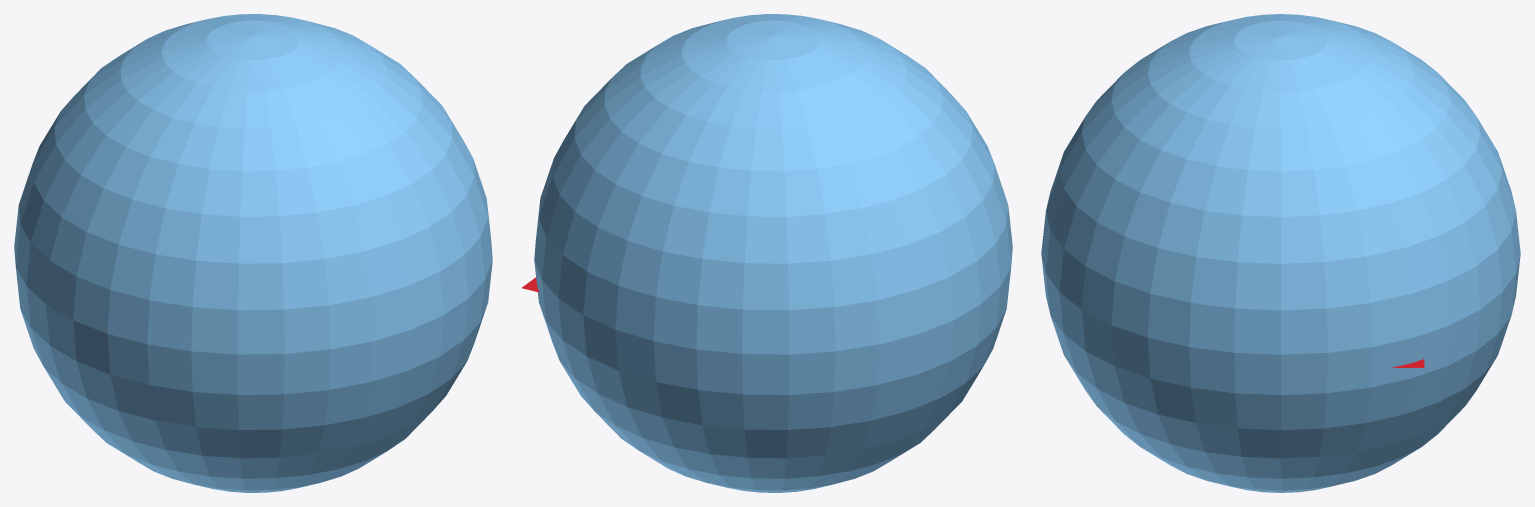
Rendered from test-zone2.glb.
The picture shows the model from 3 angles, left to right: view 1: azimuth 30°, elevation 25°; view 2: azimuth 150°, elevation 25°; view 3: azimuth 270°, elevation 25°; orthographic projection.
Parts seen in each view (by area): view 1: SkyBox; view 2: SkyBox; view 3: SkyBox.
Part boxes in pixels (bbox=[...]): SkyBox: bbox=[14, 14, 492, 492]; SkyBox: bbox=[534, 14, 1012, 492]; SkyBox: bbox=[1041, 14, 1520, 492].
Bounding box in the file's own units: 600 × 600 × 600.
Materials: 15 (14 with a texture image).
